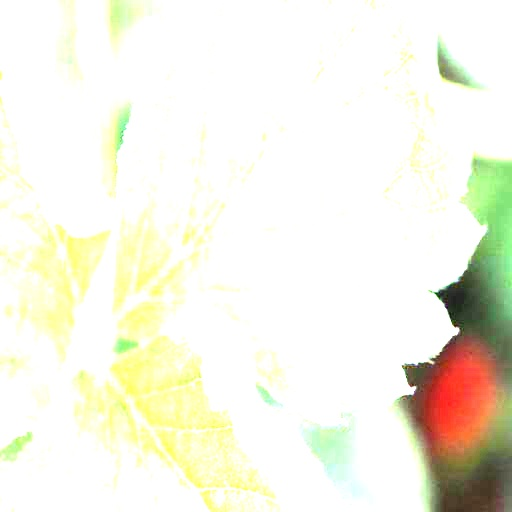Powdery Mildew Leaf: (107, 0, 486, 426), (0, 322, 347, 511)
